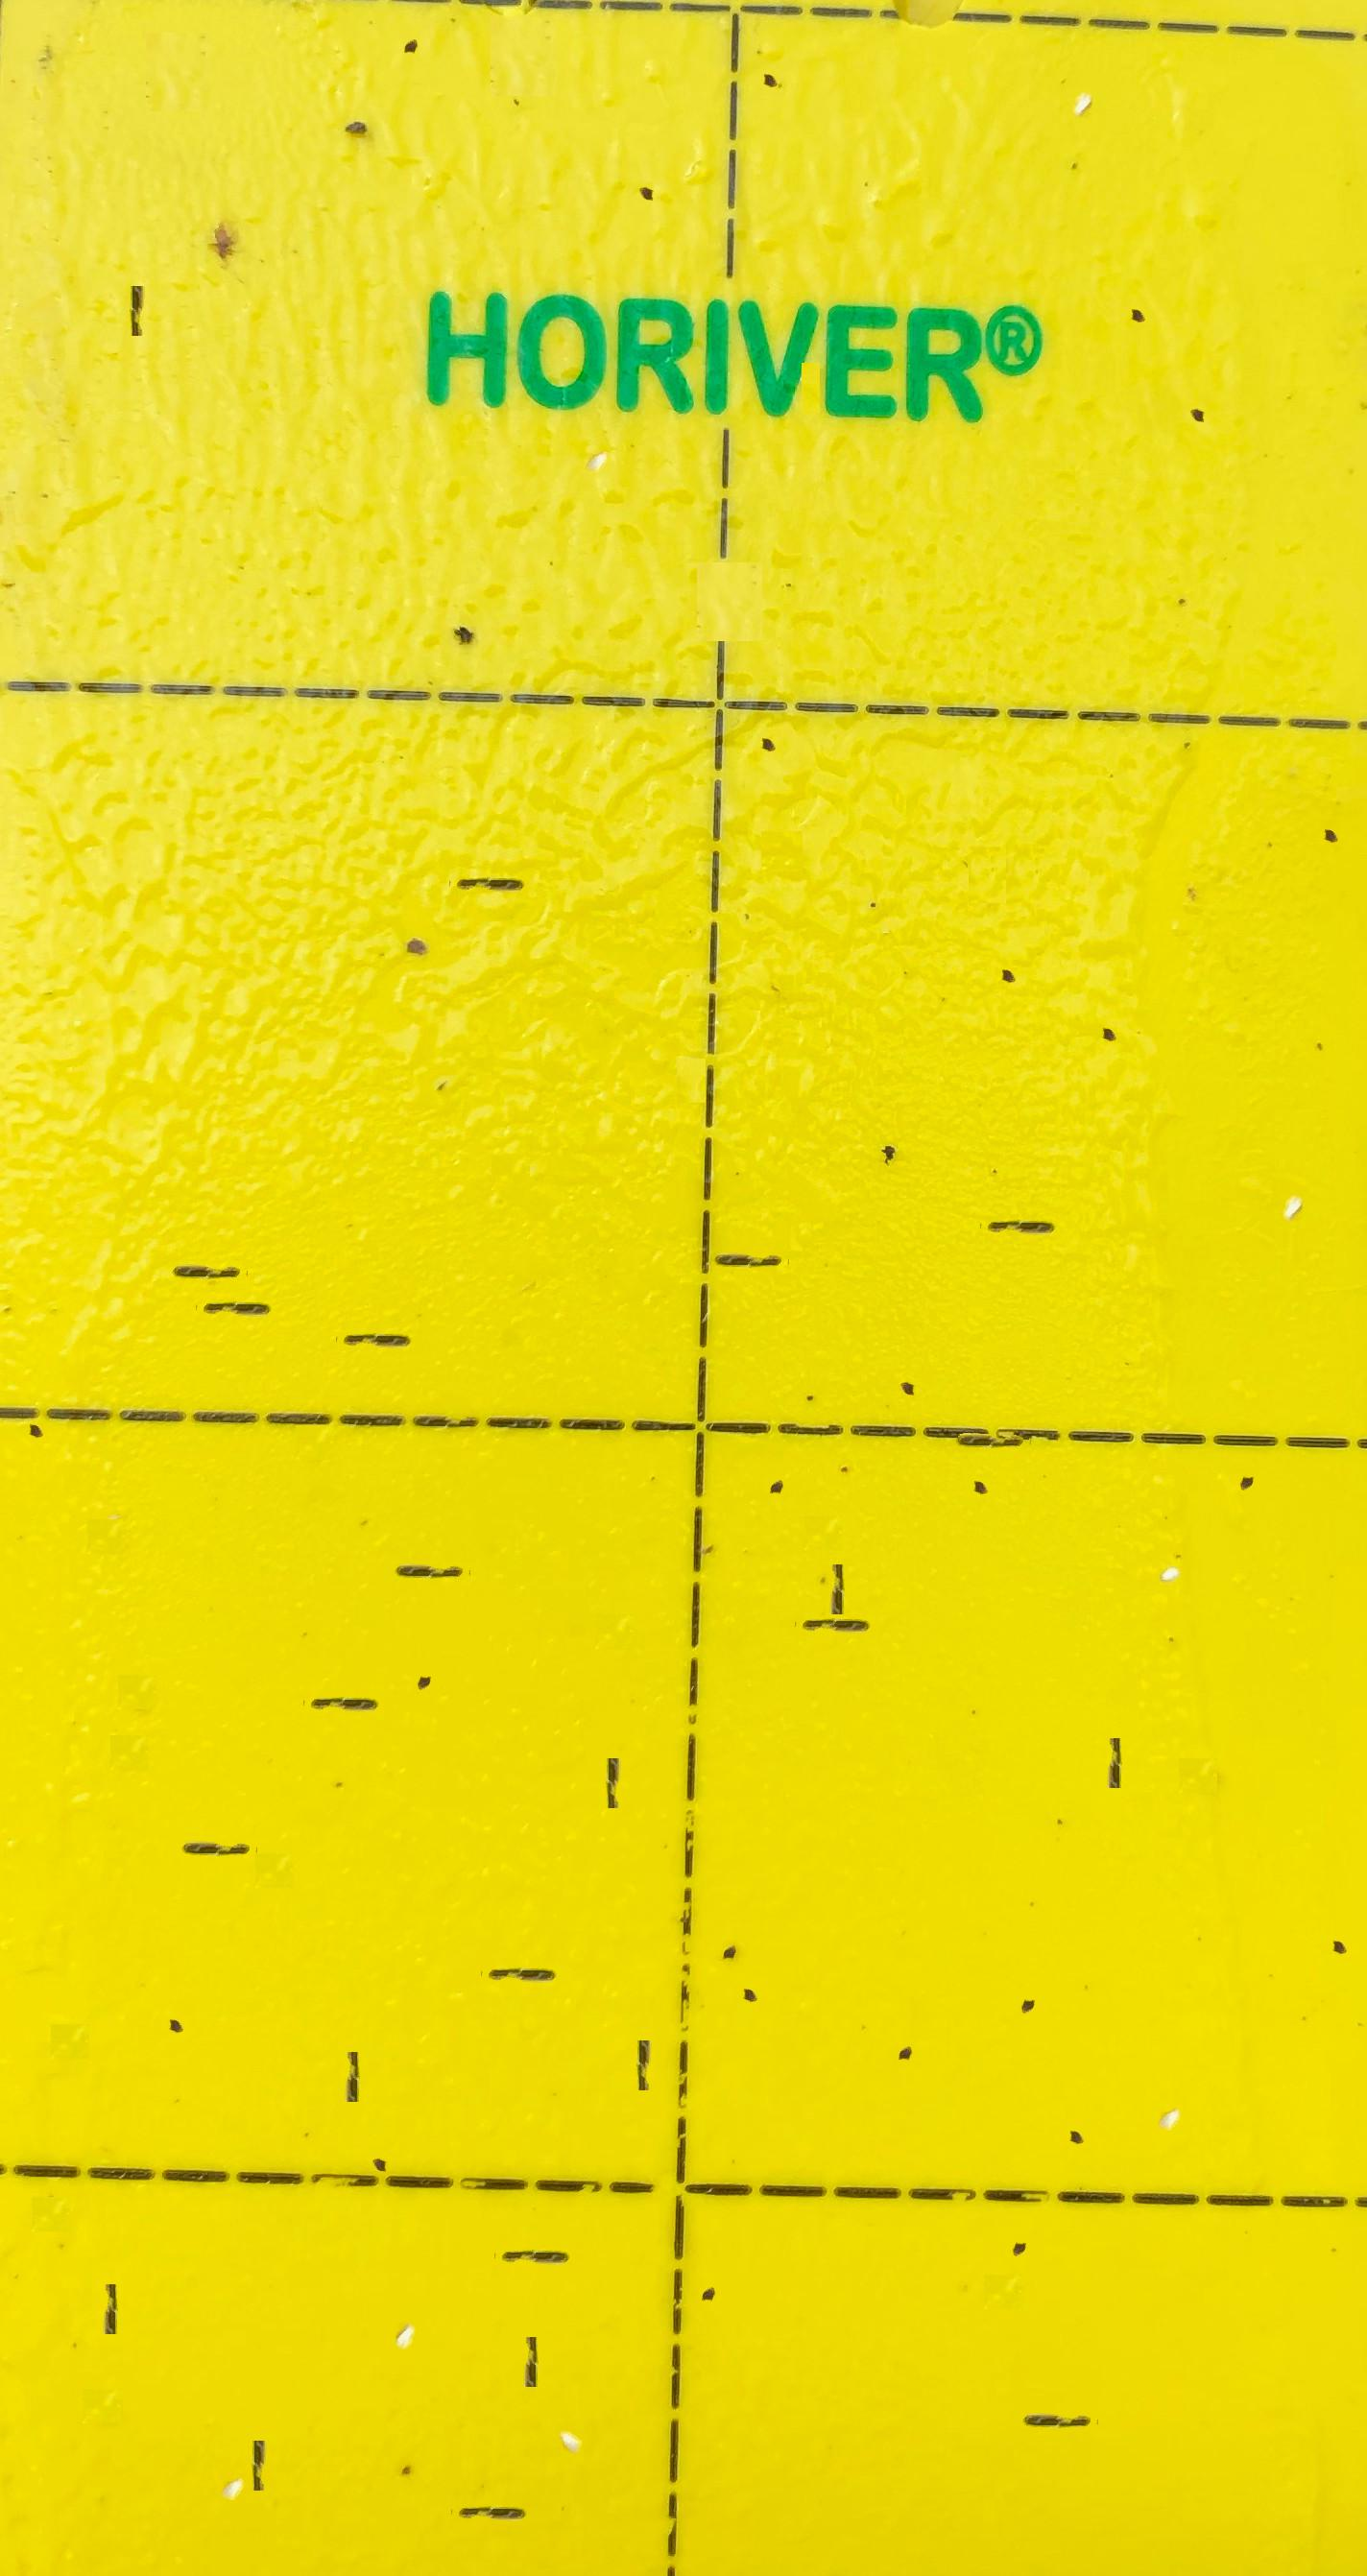white_fly: (385, 2271, 428, 2317), (1151, 1503, 1191, 1550), (1270, 1138, 1312, 1182), (1060, 34, 1103, 78), (576, 399, 619, 441), (211, 2426, 254, 2469), (1149, 2056, 1190, 2099), (551, 2378, 591, 2421)
